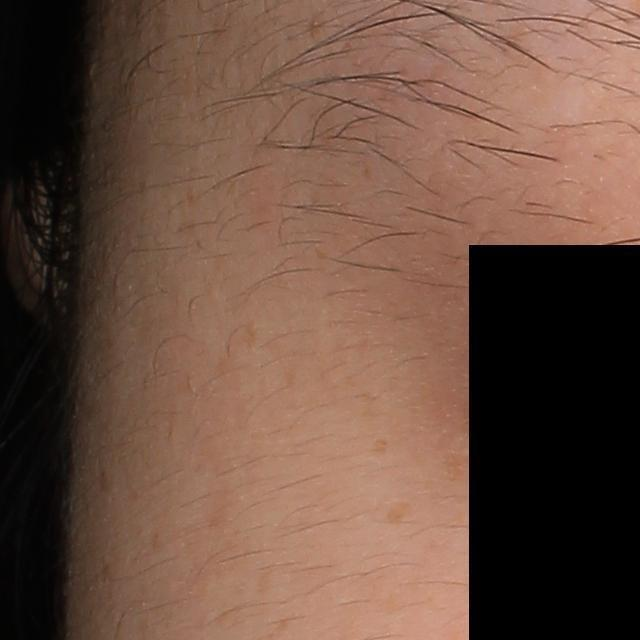melasma: (381, 499, 417, 523), (242, 317, 261, 349), (369, 434, 390, 455)
